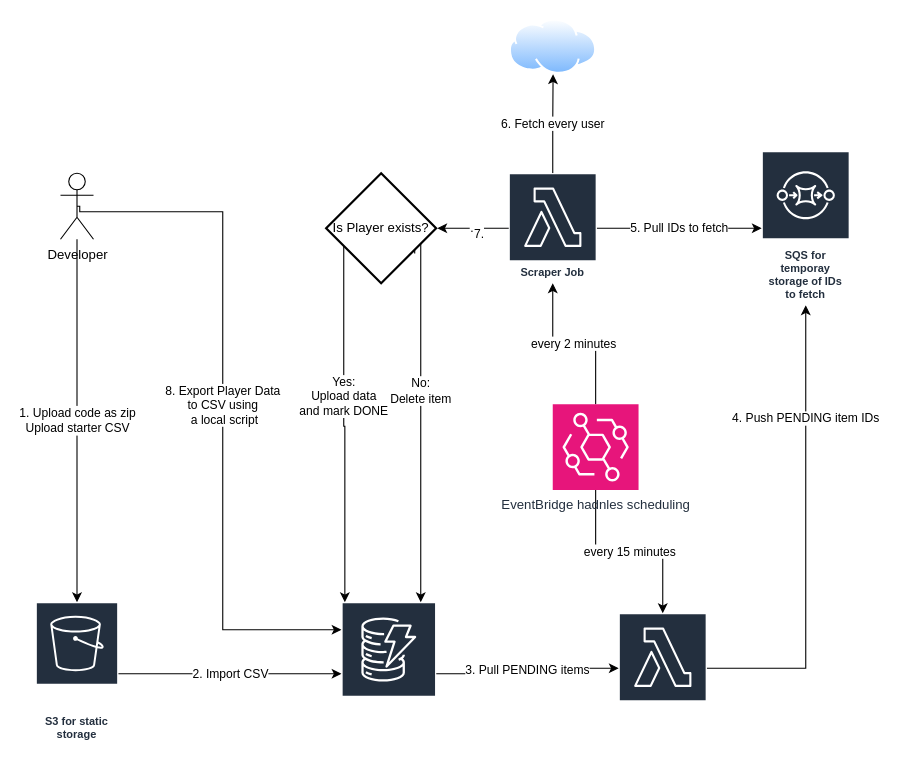
Image size: 899x765. Some labels were removed from this diagram. Each missing label, with the centre of its shape:
"DynamoDB: Player data store" belongs at point (388, 673).
"FFXIV website" belongs at point (552, 46).
"Loader Job" belongs at point (662, 667).
